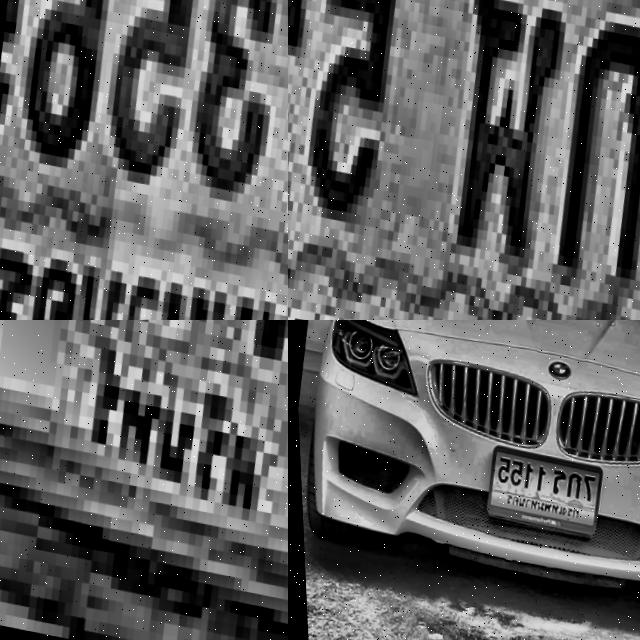license-plate: (288, 0, 640, 320), (0, 0, 288, 320), (0, 320, 288, 640), (478, 440, 607, 535)
